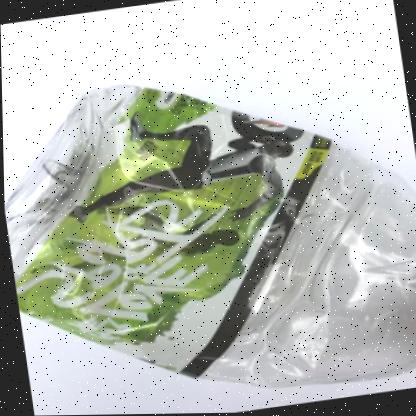Plastic: (4, 85, 416, 389)
